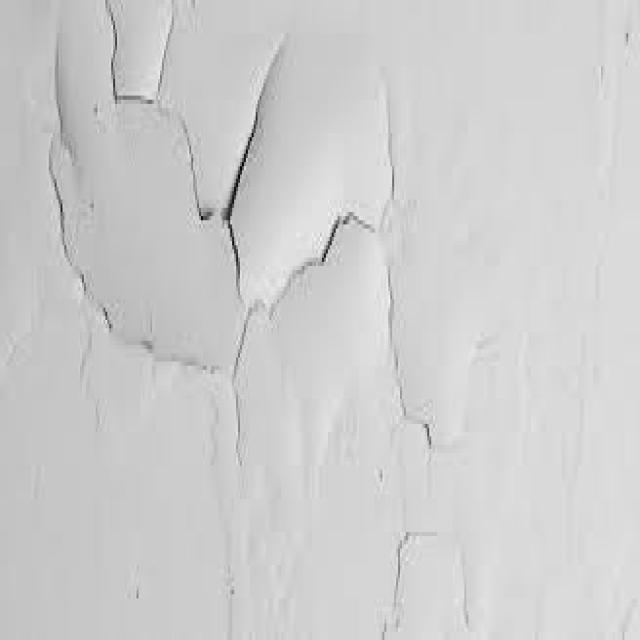peeling paint: (10, 0, 524, 640)
